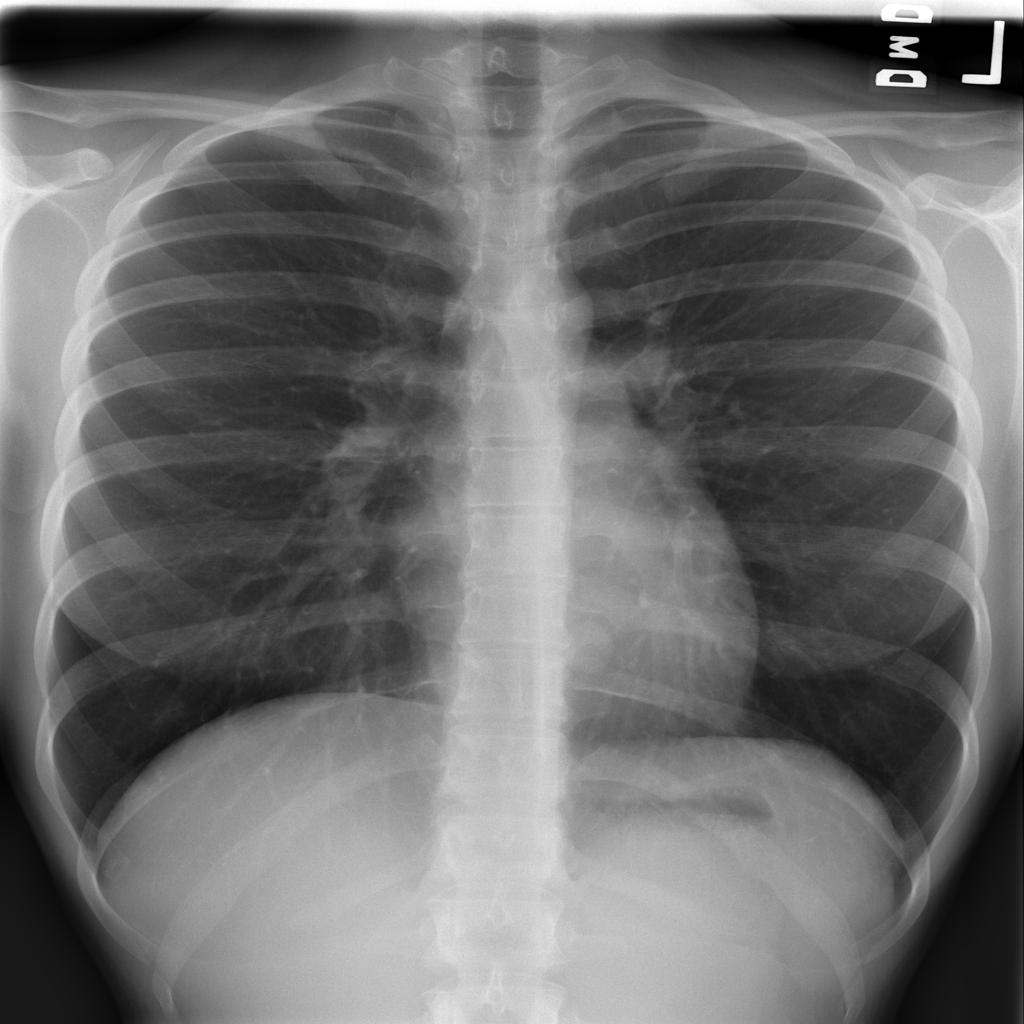nodule: (554, 608, 625, 683)
